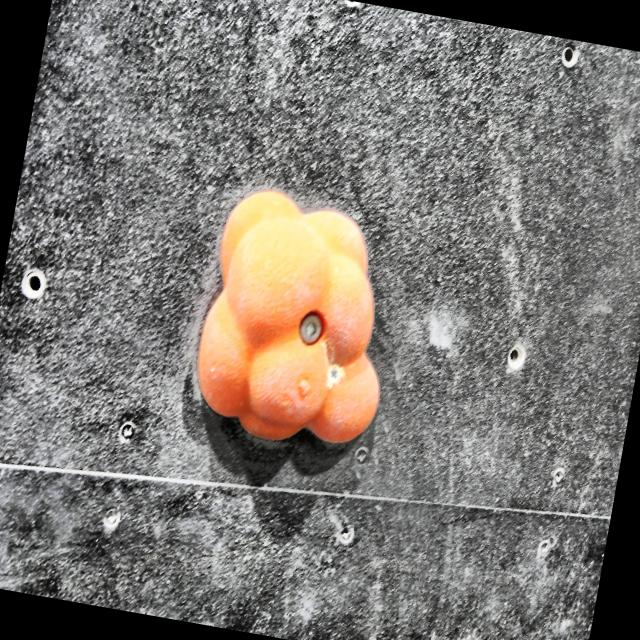Hold: (182, 176, 418, 459)
